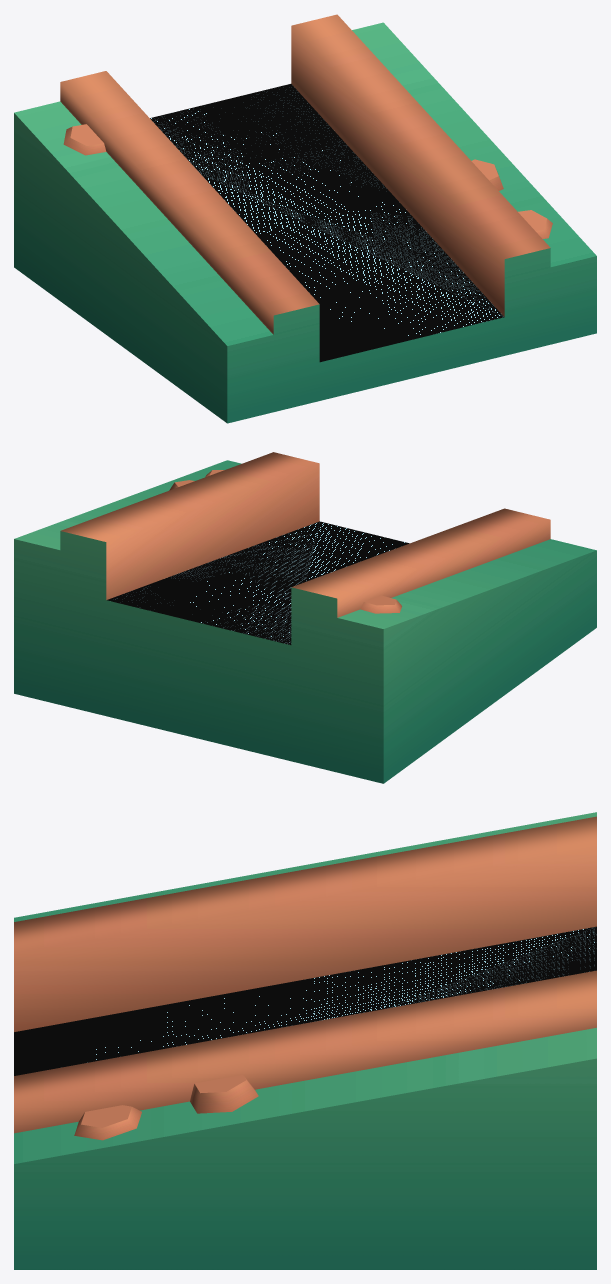
The model's file is kenney-tower-defense-tile-river-slope.glb.
3 renders of one model, top to bottom at view 1: azimuth 30°, elevation 25°; view 2: azimuth 150°, elevation 25°; view 3: azimuth 270°, elevation 25°, orthographic. The views are drawn at different scales.
Parts seen in each view (by area): view 1: tile-river-slope; view 2: tile-river-slope; view 3: tile-river-slope.
Boxes of the visible parts, x1,y1,x2,y2 form: tile-river-slope: [14, 14, 596, 423]; tile-river-slope: [14, 452, 596, 783]; tile-river-slope: [14, 812, 596, 1269].
Bounding box in the file's own units: 1 × 0.45 × 1.
1 material, 1 textured.
